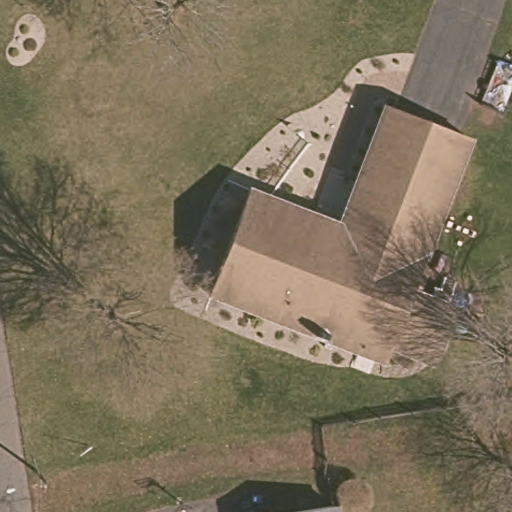DT: (6, 446, 91, 496)
